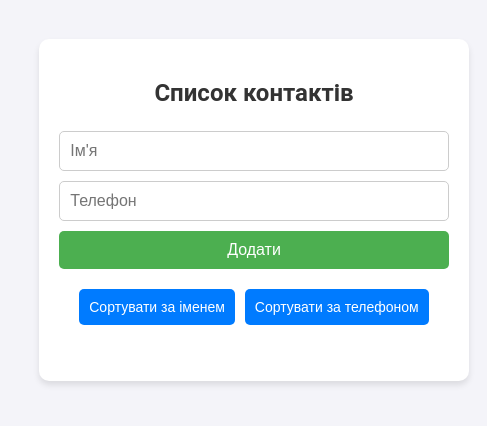
Scenario: Додаток контактів - тести › Редагує контакт і зберігає зміни
Type "Олена" into the field with placeholder "Ім" at (254, 151), box [59,131,449,171]
Type "555666777" into the field with placeholder "Телефон" at (254, 201), box [59,181,449,221]
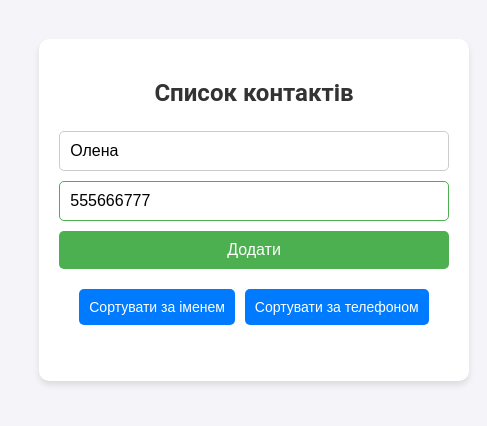
Click the button "Додати" at (254, 250), box [59,231,449,269]
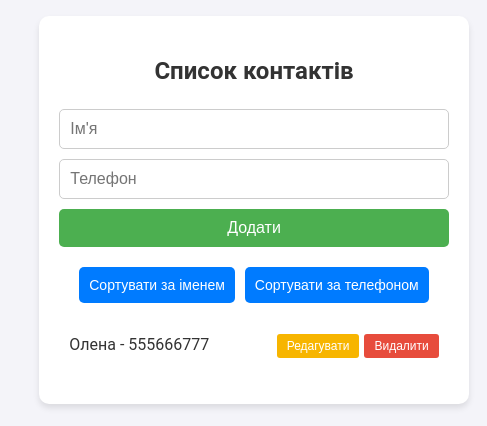
Click the button "Редагувати" at (319, 346), box [277,334,360,358]
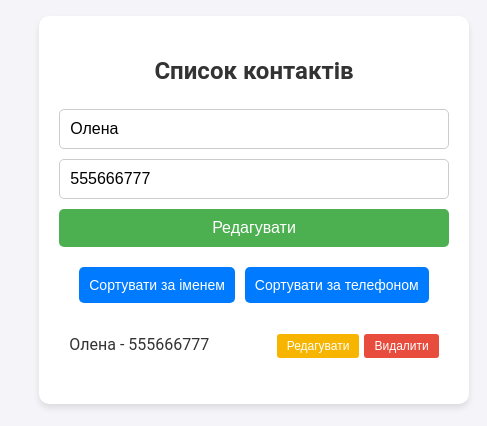
Replace the text in the 1st field with placeholder "Ім" with "Олена Іванівна" at (254, 129), box [59,109,449,149]
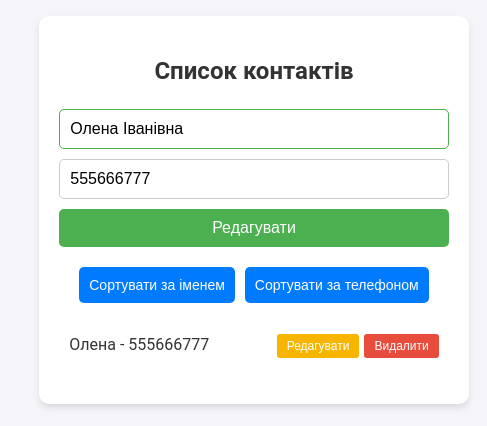
Replace the text in the 2nd field with placeholder "Телефон" with "111222333" at (254, 179), box [59,159,449,199]
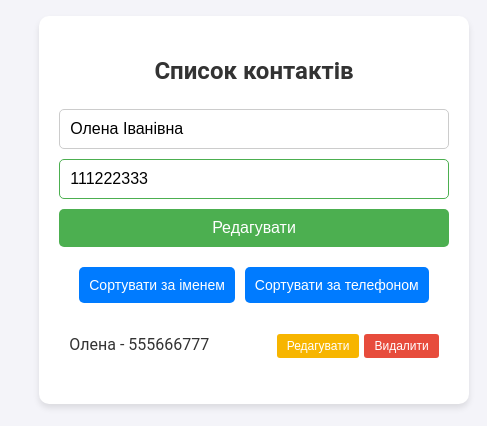
Click the 1st button "Редагувати" at (254, 228), box [59,209,449,247]
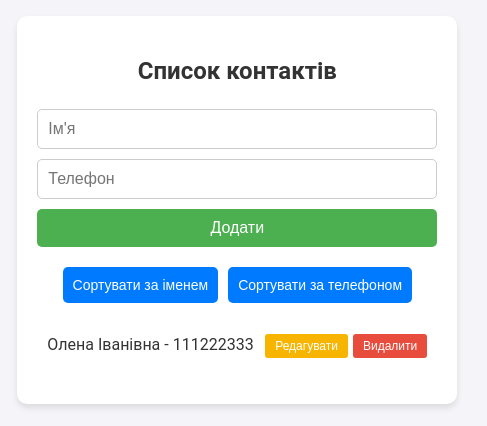
Expected: the list item "Олена Іванівна - 111222333" is shown, [47,334,427,358]
